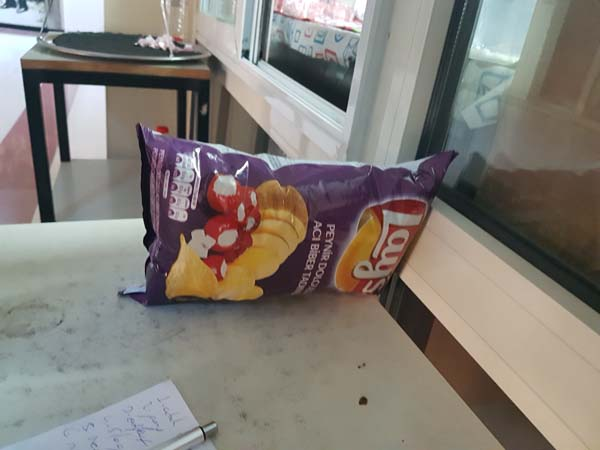layspeynirsoslu: (131, 122, 458, 305)
